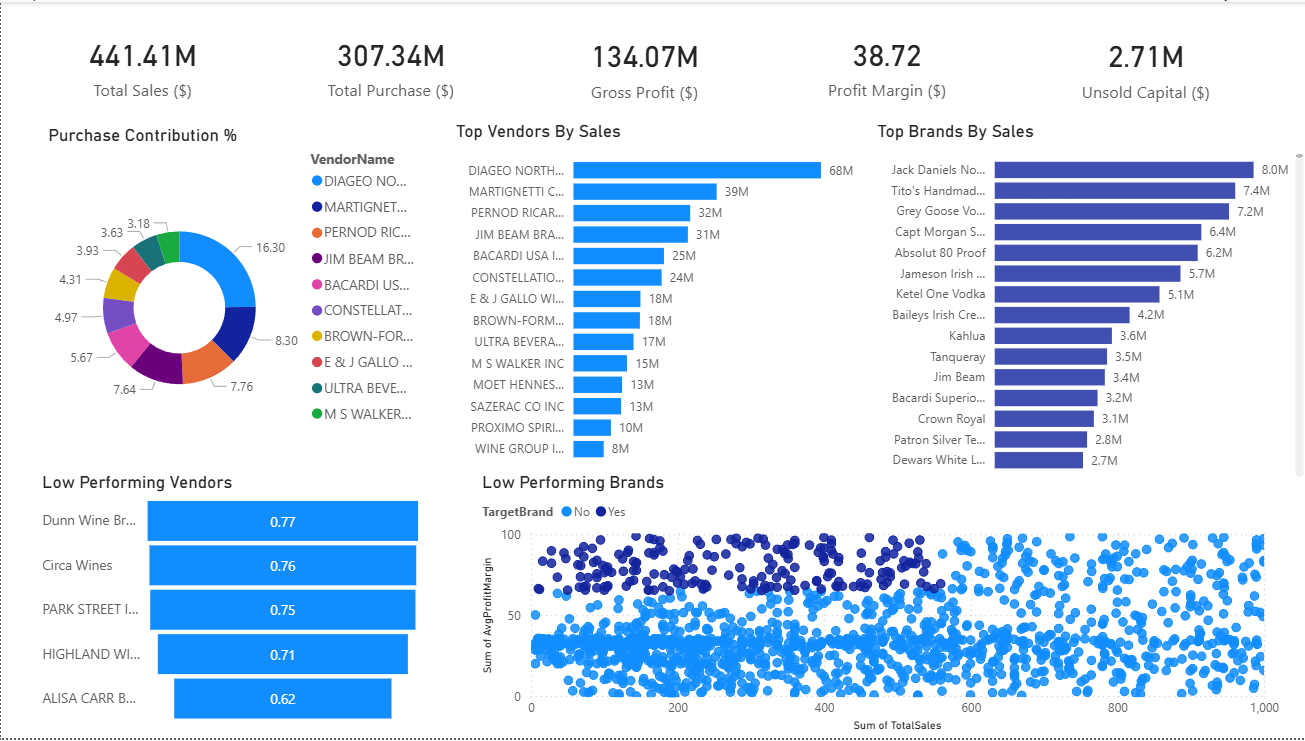

The dashboard page shown, as its layout file describes it:
{"tool":"powerbi","page":{"name":"Page 1","canvas":[1280,720],"ordinal":0},"visuals":[{"type":"card","fields":{"Values":["Sum(vendor_data vendor_sales_summary.TotalSalesDollars)"]},"box":[41.6,7.3,194.4,108.8],"z":0},{"type":"card","fields":{"Values":["Sum(vendor_sales_summary.TotalPurchaseDollars)"]},"box":[283.7,7.3,195.7,108.8],"z":2000},{"type":"card","fields":{"Values":["Sum(vendor_data vendor_sales_summary.GrossProfit)"]},"box":[531.9,8.6,195.7,108.8],"z":3000},{"type":"card","fields":{"Values":["Avg(vendor_data vendor_sales_summary.ProfitMargin)"]},"box":[769.2,7.3,195.7,108.8],"z":4000},{"type":"card","fields":{"Values":["Sum(vendor_sales_summary.UnsoldCapital)"]},"box":[1022.3,8.6,195.7,108.8],"z":5000},{"type":"donutChart","title":"Purchase Contribution %","fields":{"Category":["PurchaseContribution.VendorName"],"Y":["Sum(PurchaseContribution.PurchaseContribution)"]},"box":[41.6,119.3,377.2,339.8],"z":6000},{"type":"barChart","title":"Top Vendors By Sales","fields":{"Category":["vendor_sales_summary.VendorName"],"Y":["Sum(vendor_sales_summary.TotalSalesDollars)"]},"box":[440.2,116.2,426.8,343.6],"z":7000},{"type":"barChart","title":"Top Brands By Sales","fields":{"Category":["vendor_sales_summary.Description"],"Y":["Sum(vendor_sales_summary.TotalSalesDollars)"]},"box":[852.9,116.5,427.1,353.6],"z":8000},{"type":"funnel","title":"Low Performing Vendors","fields":{"Category":["LowTurnoverVendor.VendorName"],"Y":["Avg(LowTurnoverVendor.AvgStockTurnover)"]},"box":[35.5,459.8,382.7,250.7],"z":9000},{"type":"scatterChart","title":"Low Performing Brands","fields":{"Category":["BrandPerformance.Description"],"X":["Sum(BrandPerformance.TotalSales)"],"Y":["Sum(BrandPerformance.AvgProfitMargin)"],"Series":["BrandPerformance.TargetBrand"]},"box":[465.9,459.8,789.9,259.2],"z":10000}]}

Visuals, with their boxes in screenshot pixels (x1, y1, x2, y2), scaled from the page's 1280x720 canvas onto the 1305x741 screenshot:
card - Sum(vendor_data vendor_sales_summary.TotalSalesDollars): (42, 8, 241, 119)
card - Sum(vendor_sales_summary.TotalPurchaseDollars): (289, 8, 489, 119)
card - Sum(vendor_data vendor_sales_summary.GrossProfit): (542, 9, 742, 121)
card - Avg(vendor_data vendor_sales_summary.ProfitMargin): (784, 8, 984, 119)
card - Sum(vendor_sales_summary.UnsoldCapital): (1042, 9, 1242, 121)
"Purchase Contribution %" donutChart: (42, 123, 427, 472)
"Top Vendors By Sales" barChart: (449, 120, 884, 473)
"Top Brands By Sales" barChart: (870, 120, 1304, 484)
"Low Performing Vendors" funnel: (36, 473, 426, 731)
"Low Performing Brands" scatterChart: (475, 473, 1280, 740)
